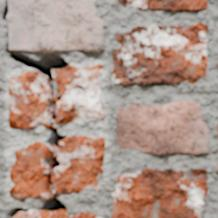brick: (111, 23, 206, 85), (8, 0, 104, 53), (116, 101, 208, 155), (112, 169, 207, 217), (119, 0, 206, 11), (27, 210, 97, 217)
broken_brick: (53, 135, 105, 194), (53, 64, 104, 124), (8, 140, 48, 200), (8, 70, 47, 129)
crack: (0, 2, 69, 215), (6, 207, 30, 217), (9, 94, 11, 109)
